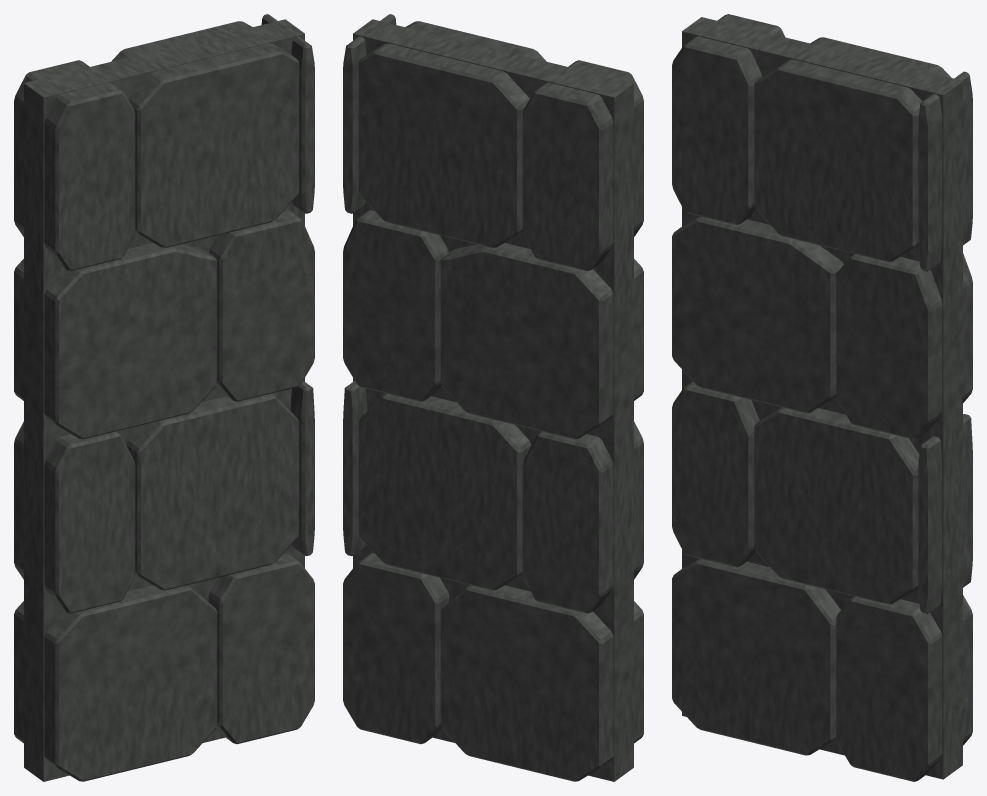
File: wall_cave_b.glb
3 views of the same model, side by side, from view 1: azimuth 30°, elevation 25°; view 2: azimuth 150°, elevation 25°; view 3: azimuth 330°, elevation 25° (orthographic).
Visible parts, largest first — view 1: wall_cave_b; view 2: wall_cave_b; view 3: wall_cave_b.
Part boxes in pixels (x1=…): wall_cave_b: x1=14, y1=14, x2=314, y2=781; wall_cave_b: x1=343, y1=14, x2=643, y2=781; wall_cave_b: x1=672, y1=14, x2=972, y2=781.
Bounding box in the file's own units: 1 × 2.5 × 0.29.
Materials: 1 (1 with a texture image).
